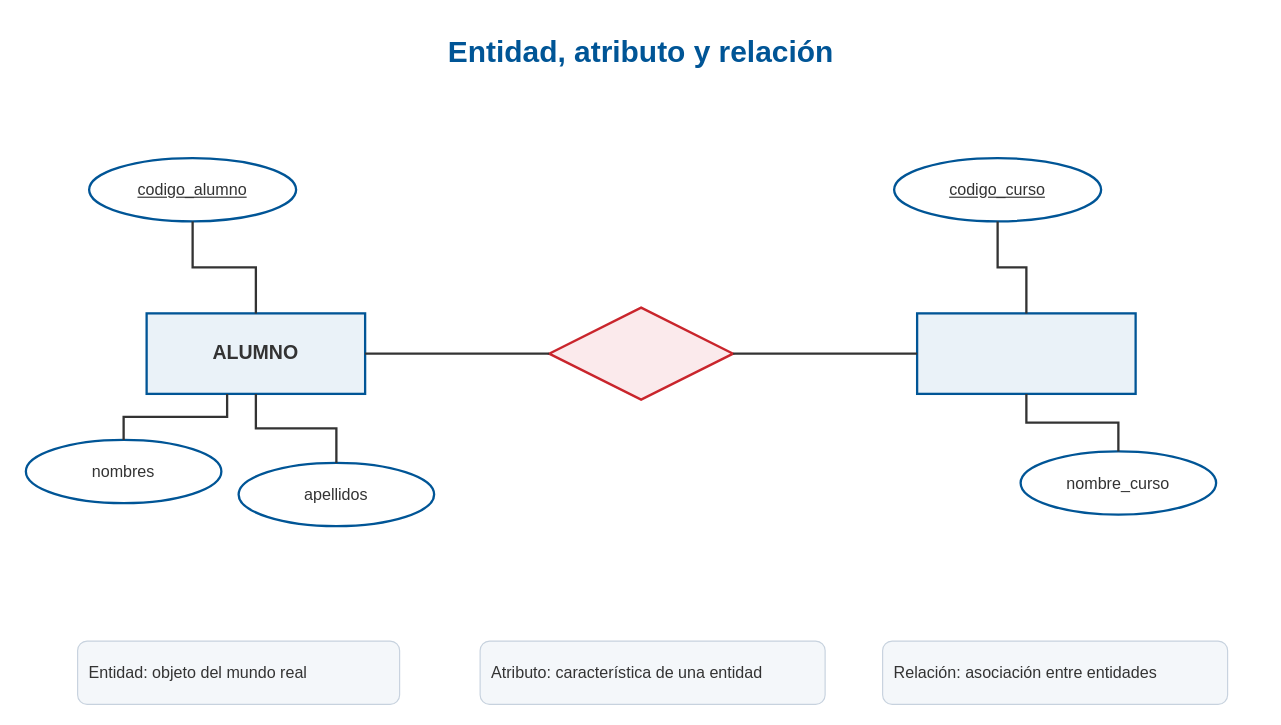
Some shapes in this 1281 by 725 pixel diagram are drawn without their labels. The centre of each missing label's shape, as x and y in pixels:
CURSO: pixel 1025 353
SE MATRICULA: pixel 640 353
